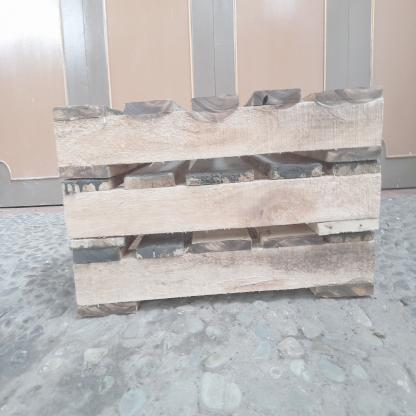Wooden-Pallet: (52, 82, 384, 181), (58, 162, 383, 250)
